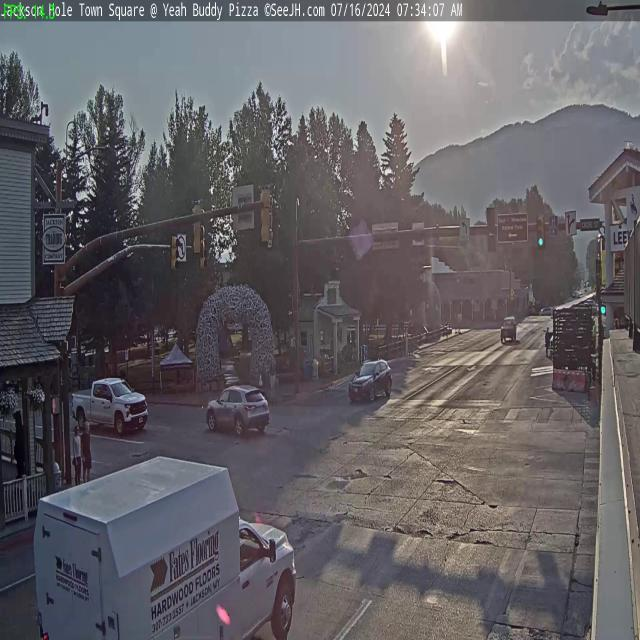person: (78, 406, 89, 480), (71, 426, 81, 482), (545, 323, 551, 354)
pickup: (76, 372, 154, 432)
suv: (204, 383, 270, 438), (348, 357, 392, 404)
traffic light: (260, 184, 274, 246), (190, 199, 203, 257), (487, 207, 498, 252), (536, 214, 546, 248), (170, 233, 179, 270)
truck: (27, 448, 290, 640)
